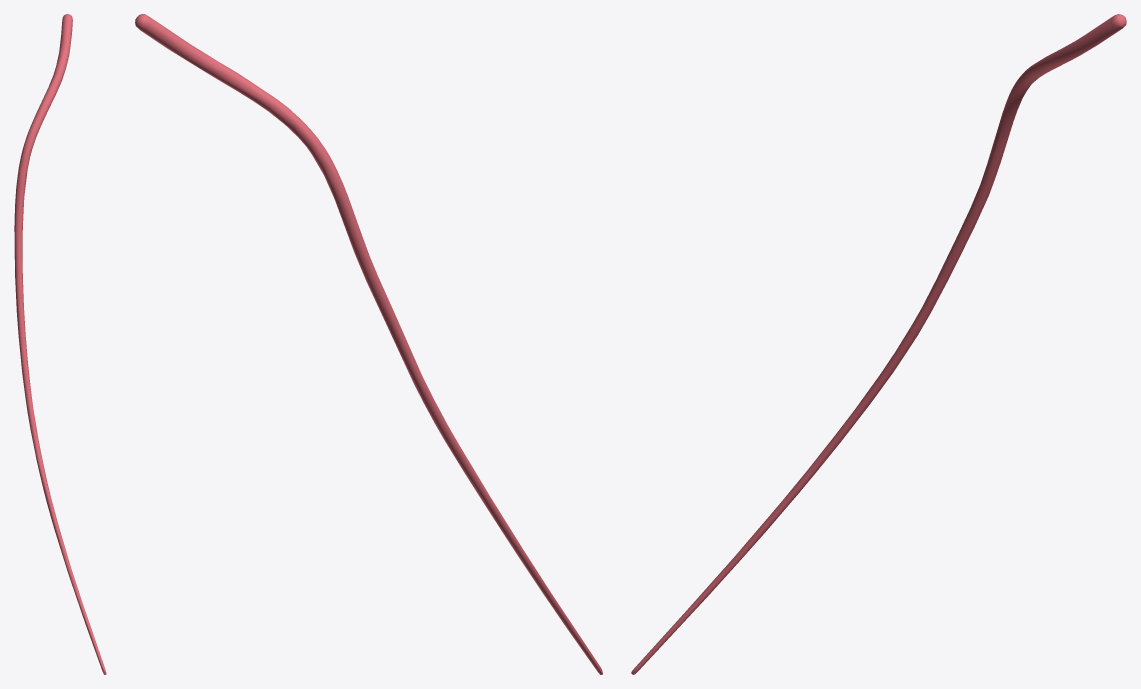
File: fma85103_fj2321.glb
3 renders of one model, left to right at view 1: azimuth 30°, elevation 25°; view 2: azimuth 150°, elevation 25°; view 3: azimuth 270°, elevation 25°, orthographic. The views are drawn at different scales.
Visible parts, largest first — view 1: FMA85103_FJ2321; view 2: FMA85103_FJ2321; view 3: FMA85103_FJ2321.
Boxes of the visible parts, box(x1,y1,x2,y2) form: FMA85103_FJ2321: box(14, 14, 106, 674); FMA85103_FJ2321: box(135, 14, 602, 674); FMA85103_FJ2321: box(631, 14, 1126, 674).
Size of the model in its own units: 0.0212 by 0.0769 by 0.0459.
